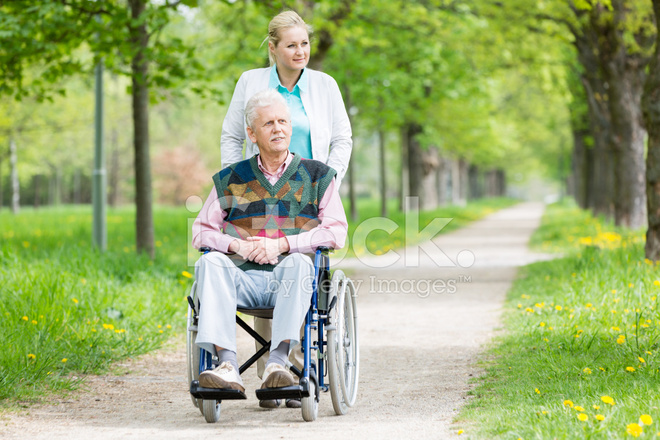wheelchair: (186, 89, 360, 424)
